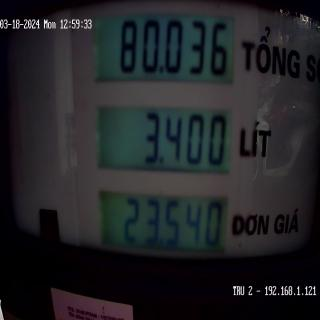screen: (90, 4, 238, 278)
